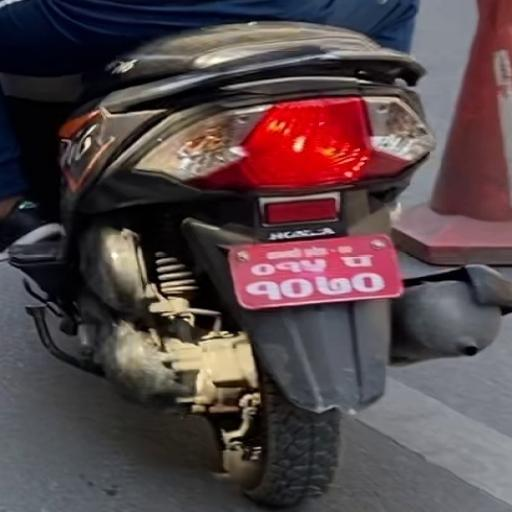license_plate: (226, 228, 412, 314)
